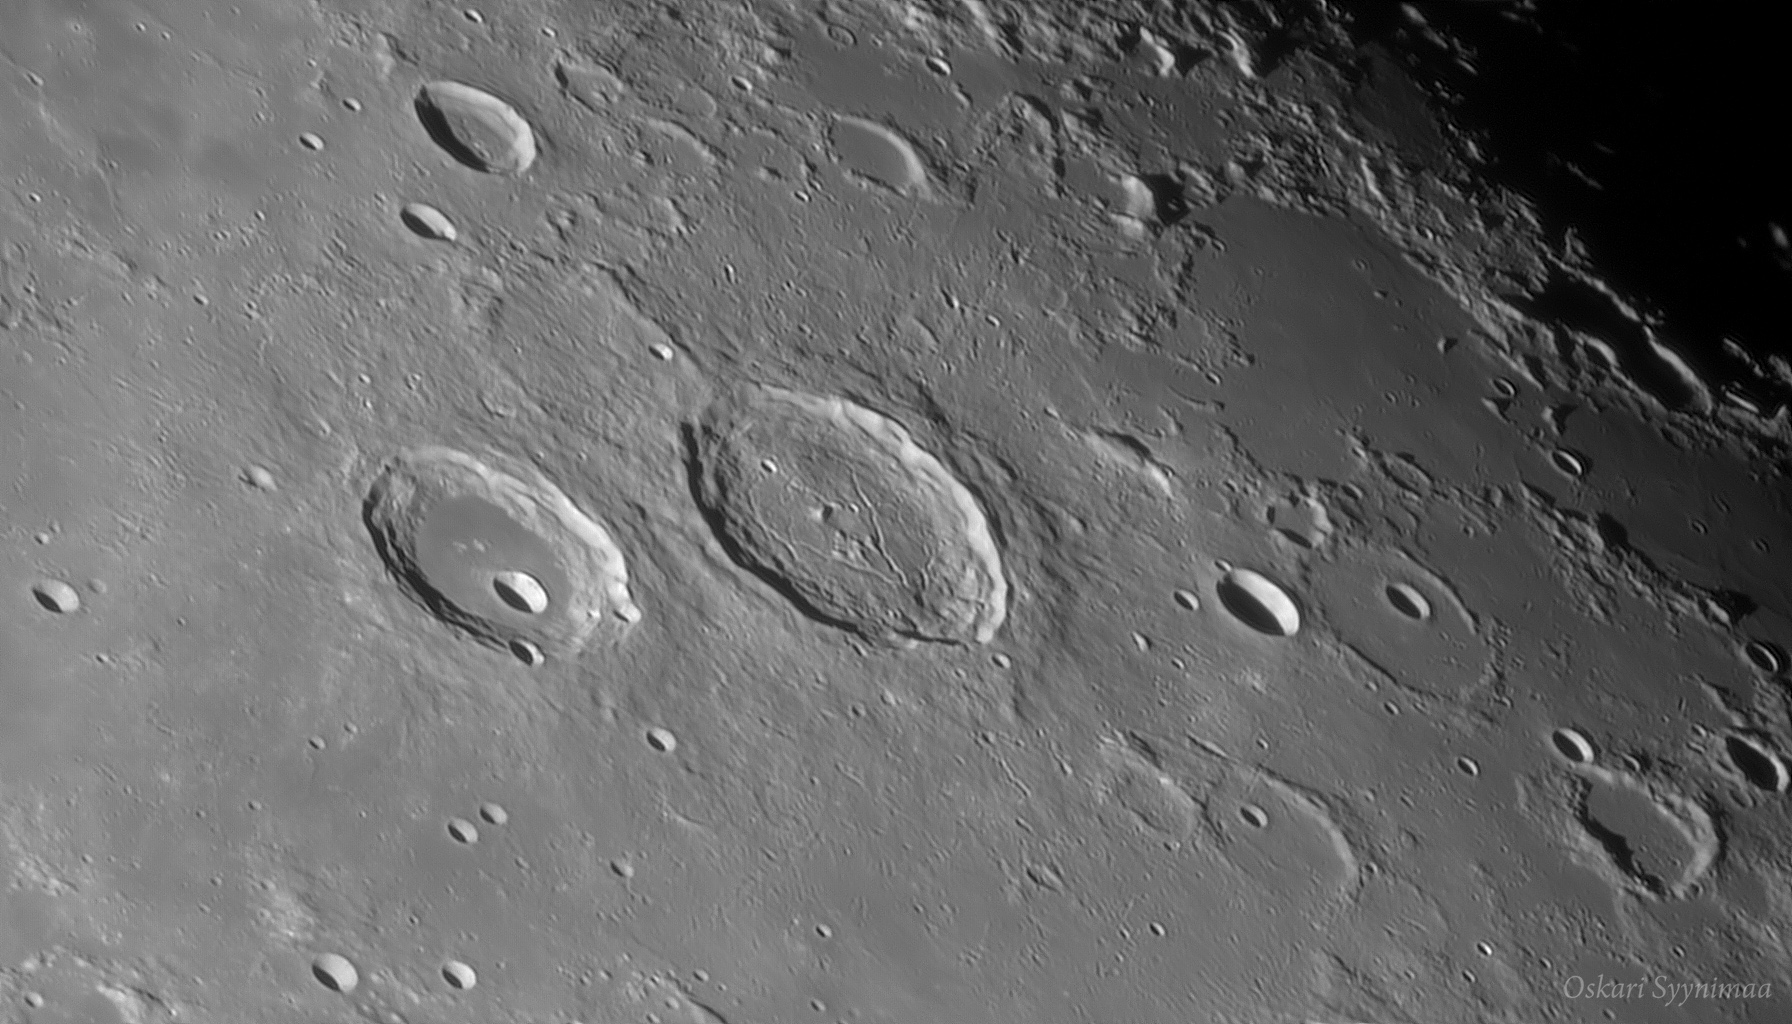crater: (649, 366, 1081, 690), (1143, 514, 1343, 702), (1538, 761, 1727, 946), (207, 882, 409, 1010), (164, 422, 313, 570), (385, 66, 559, 187), (585, 704, 786, 804), (12, 554, 149, 674), (575, 814, 727, 919), (235, 113, 366, 229)
